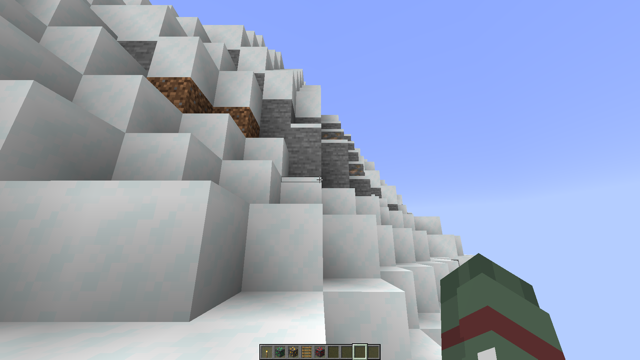iron: (320, 129, 345, 141), (346, 163, 363, 177)
